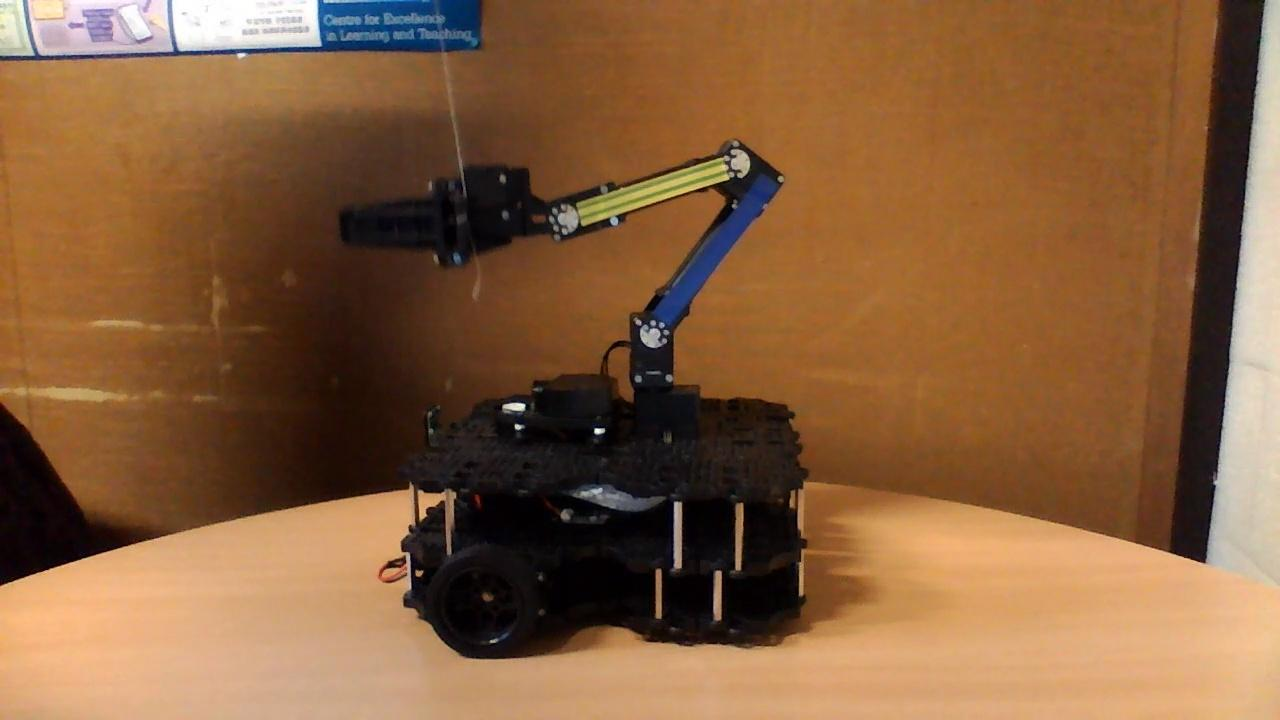Arm: (630, 173, 787, 355)
Hand: (330, 162, 545, 274)
Wrist: (545, 136, 753, 242)
base: (376, 368, 814, 662)
